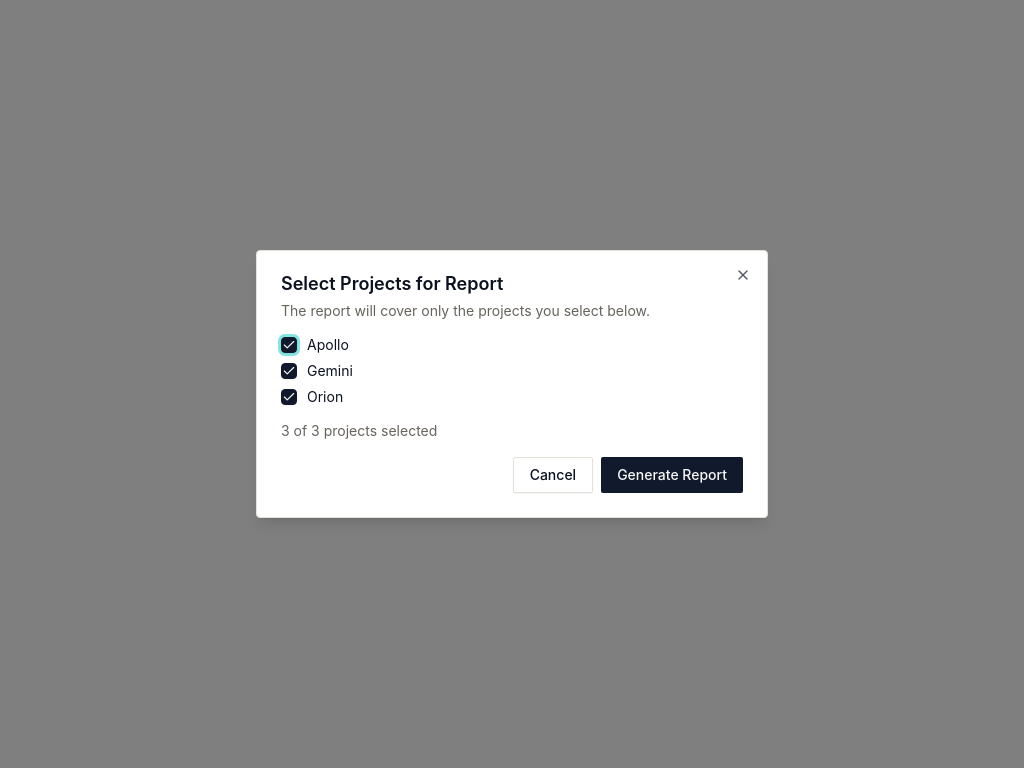
Test case: ReportProjectPickerDialog › updates the counter as projects are unchecked
Click the checkbox named "Gemini" next to "Gemini".
click(289, 371)  # box [281,363,297,379]
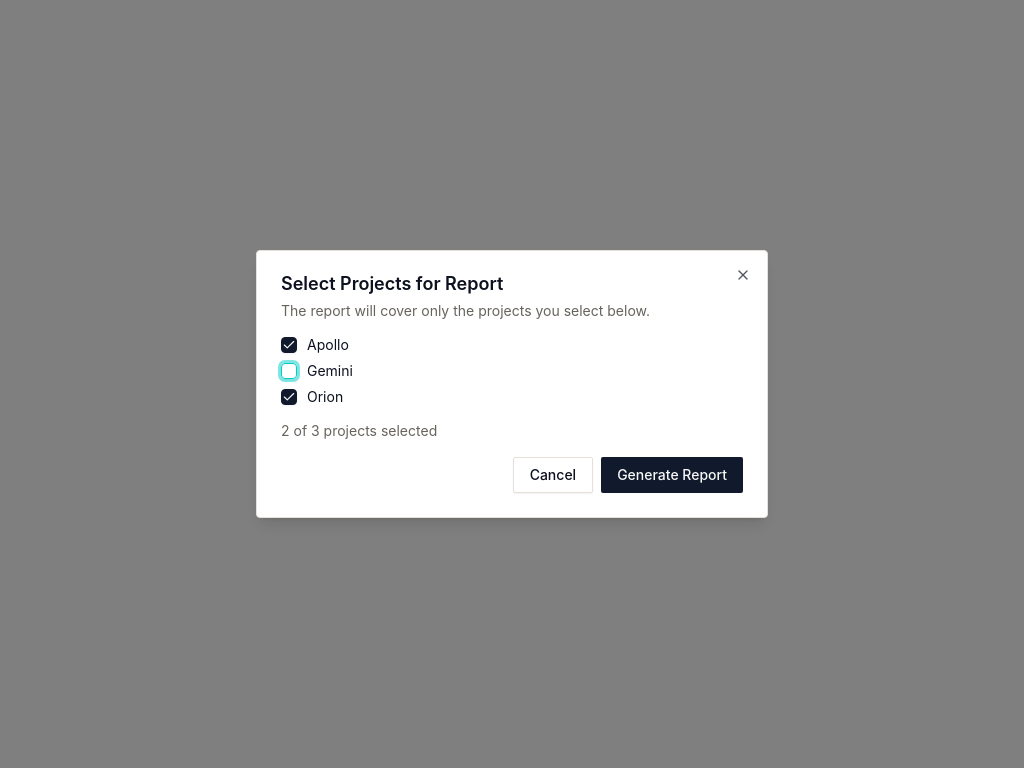
Check: the checkbox named "Gemini" next to "Gemini" is not checked, box [281,363,297,379]
Check: the text "2 of 3 projects selected" is shown, box [281,422,437,439]
